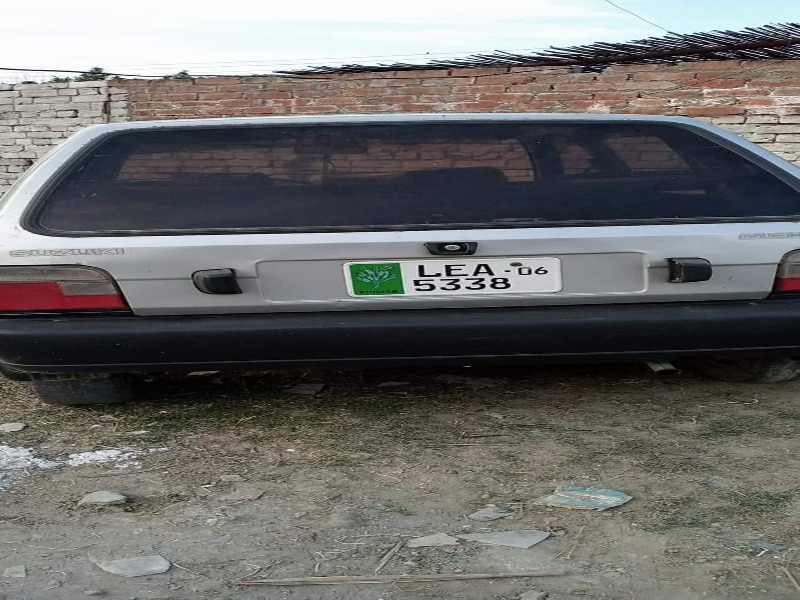License Plate: (336, 254, 564, 301)
